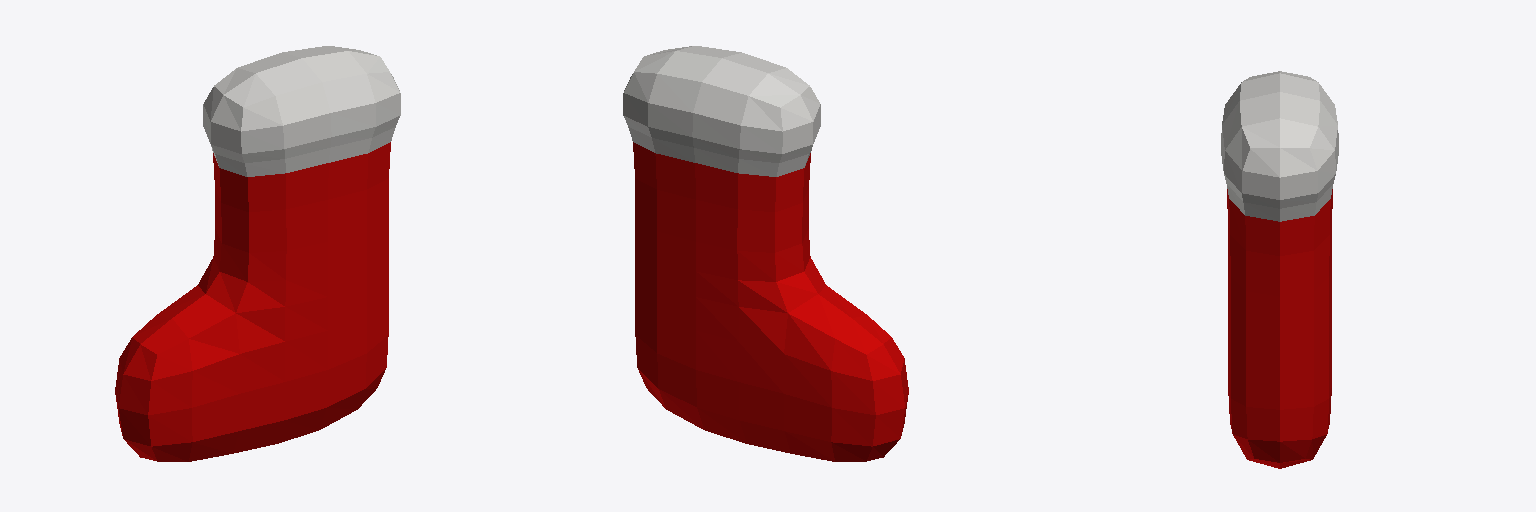
The model's file is ChristmasStocking 2.obj.
The picture shows the model from 3 angles: view 1: azimuth 30°, elevation 25°; view 2: azimuth 150°, elevation 25°; view 3: azimuth 270°, elevation 25°; orthographic projection.
Parts seen in each view (by area): view 1: Cube_Material.001, Cube_Material; view 2: Cube_Material.001, Cube_Material; view 3: Cube_Material.001, Cube_Material.
Part boxes in pixels (left/top/right/bottom): Cube_Material.001: left=115, top=142, right=390, bottom=461; Cube_Material: left=203, top=46, right=400, bottom=176; Cube_Material.001: left=633, top=142, right=908, bottom=461; Cube_Material: left=623, top=46, right=820, bottom=176; Cube_Material.001: left=1227, top=189, right=1332, bottom=468; Cube_Material: left=1221, top=71, right=1338, bottom=221.
Bounding box in the file's own units: 3.28 × 4.26 × 1.23.